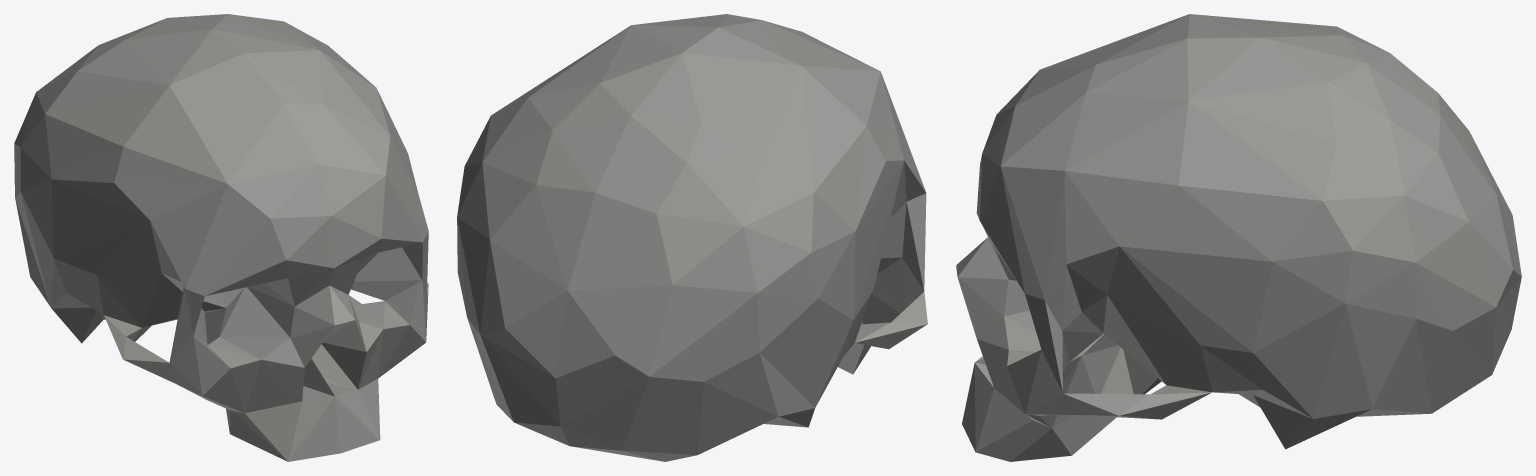
File: YN_Skull2.fbx
3 views of the same model, side by side, from view 1: azimuth 30°, elevation 25°; view 2: azimuth 150°, elevation 25°; view 3: azimuth 270°, elevation 25° (orthographic). The views are drawn at different scales.
Parts seen in each view (by area): view 1: YN_Skull2; view 2: YN_Skull2; view 3: YN_Skull2.
Boxes of the visible parts, box(x1,y1,x2,y2) form: YN_Skull2: box(14, 14, 428, 461); YN_Skull2: box(457, 14, 927, 461); YN_Skull2: box(956, 14, 1521, 461).
Size of the model in its own units: 5.83 by 5.94 by 7.8.
